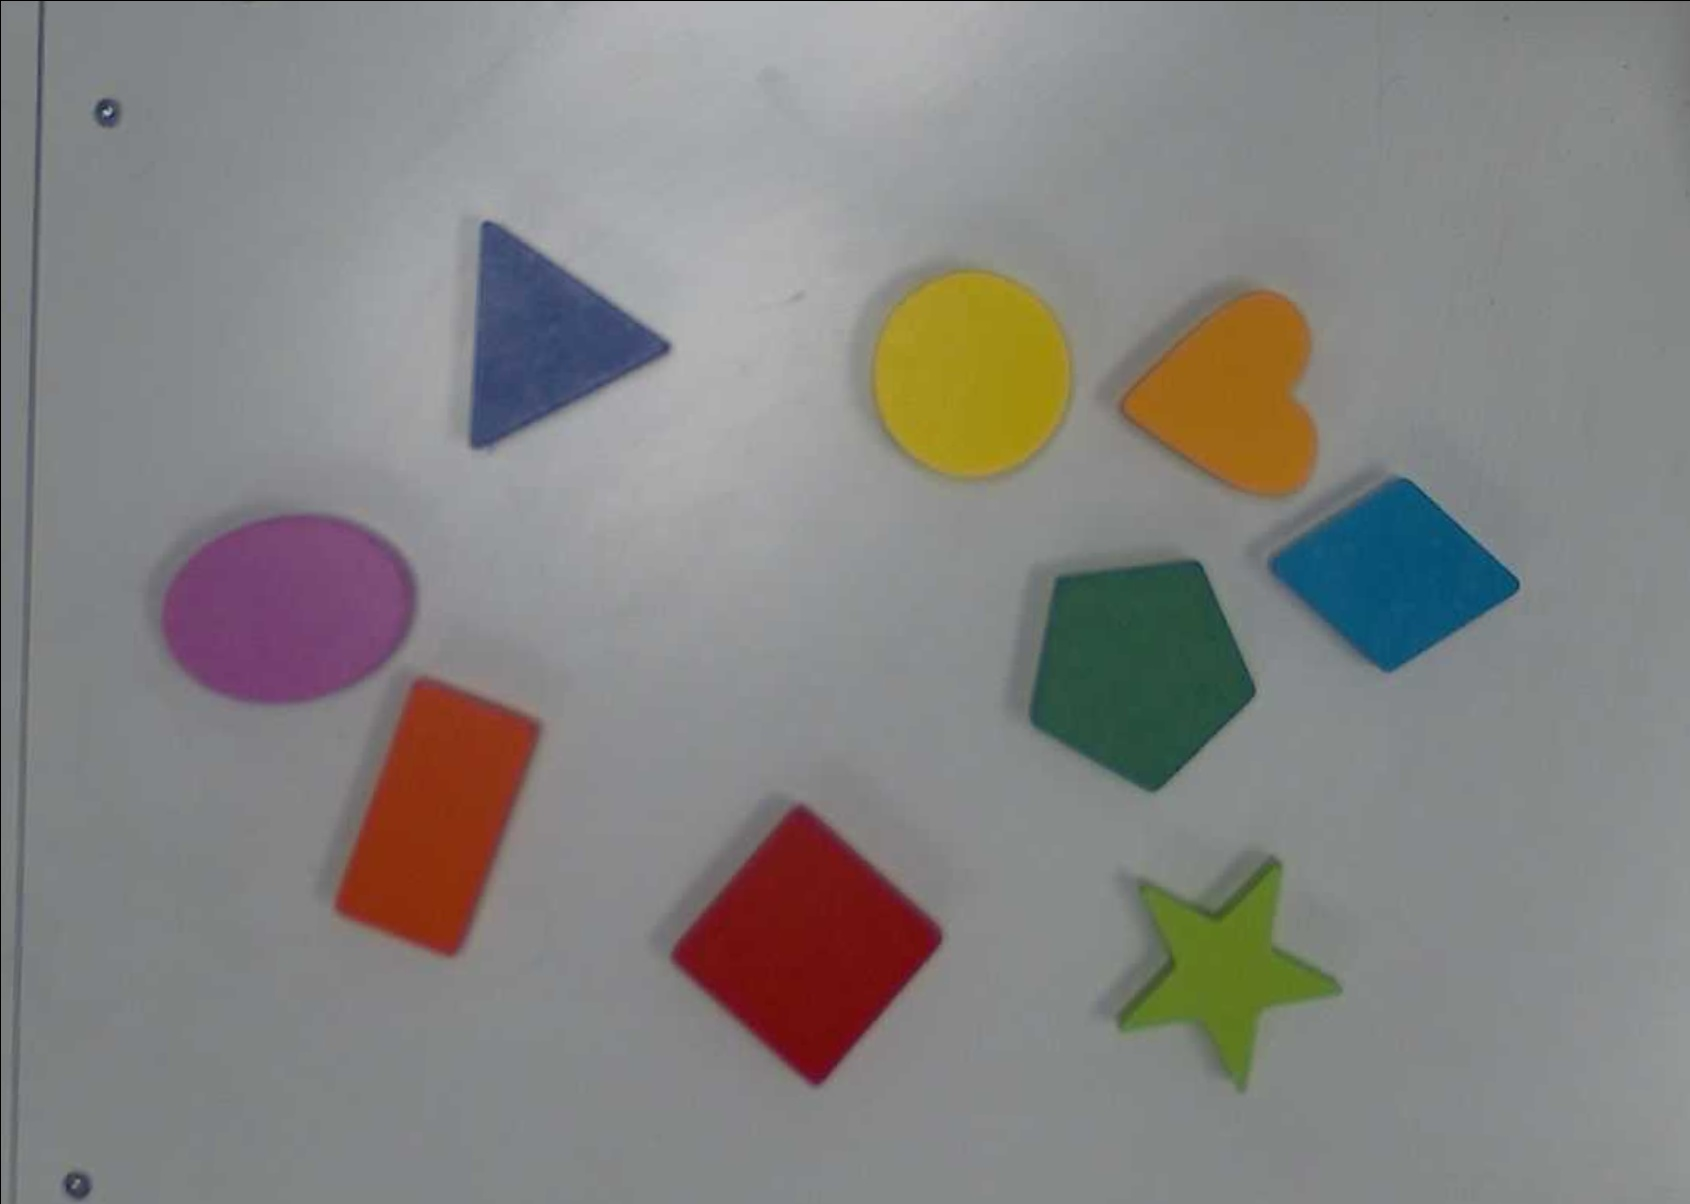Circle: (870, 267, 1078, 483)
Ellipse: (159, 509, 422, 706)
Heart: (1109, 284, 1321, 504)
Parallelogram: (1263, 469, 1526, 674)
Pentagon: (1024, 555, 1264, 794)
Rectangle: (314, 675, 546, 959)
Square: (666, 799, 949, 1085)
Star: (1111, 853, 1346, 1091)
Triangle: (464, 216, 678, 453)
